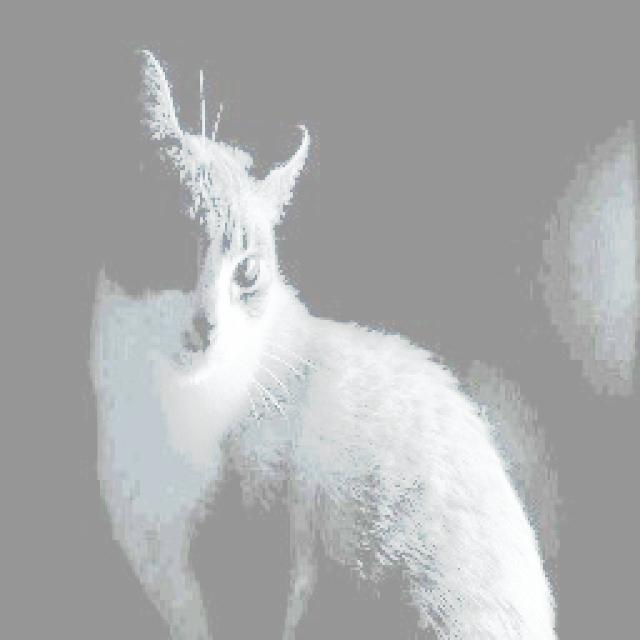cat: (35, 17, 572, 640)
